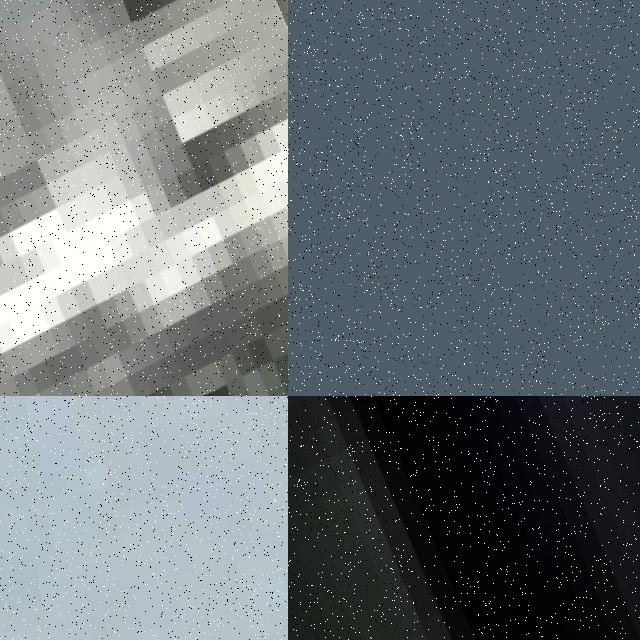0: (0, 0, 288, 396)
drone: (288, 396, 640, 640)
